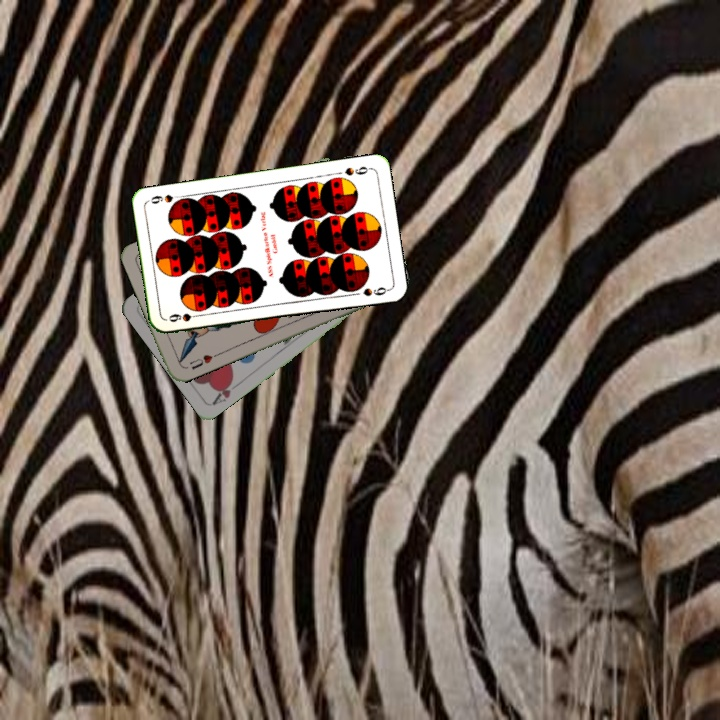HA: (208, 374, 237, 408)
HU: (185, 350, 220, 372)
S9: (164, 309, 204, 325), (341, 162, 373, 178)
